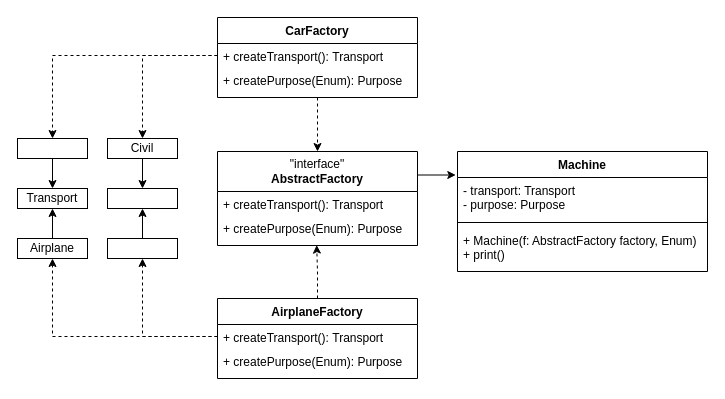
This 725x399 diagram has some shape labels left out. Each missing label, with the centre of its shape:
"Car" goes at (x=52, y=148).
"Military" goes at (x=142, y=248).
"Purpose" goes at (x=142, y=198).
